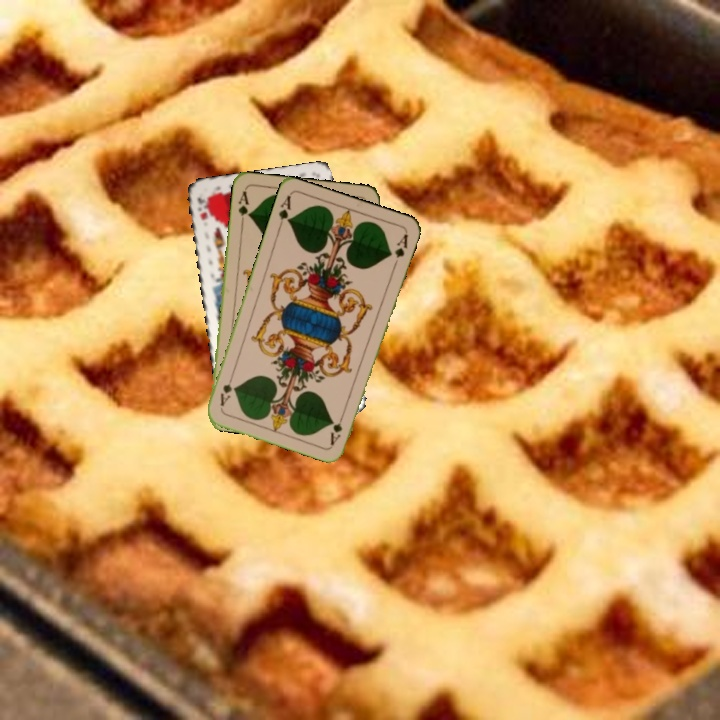GA: (326, 408, 347, 448), (274, 191, 294, 231), (234, 187, 253, 227)
HK: (193, 193, 213, 222)
